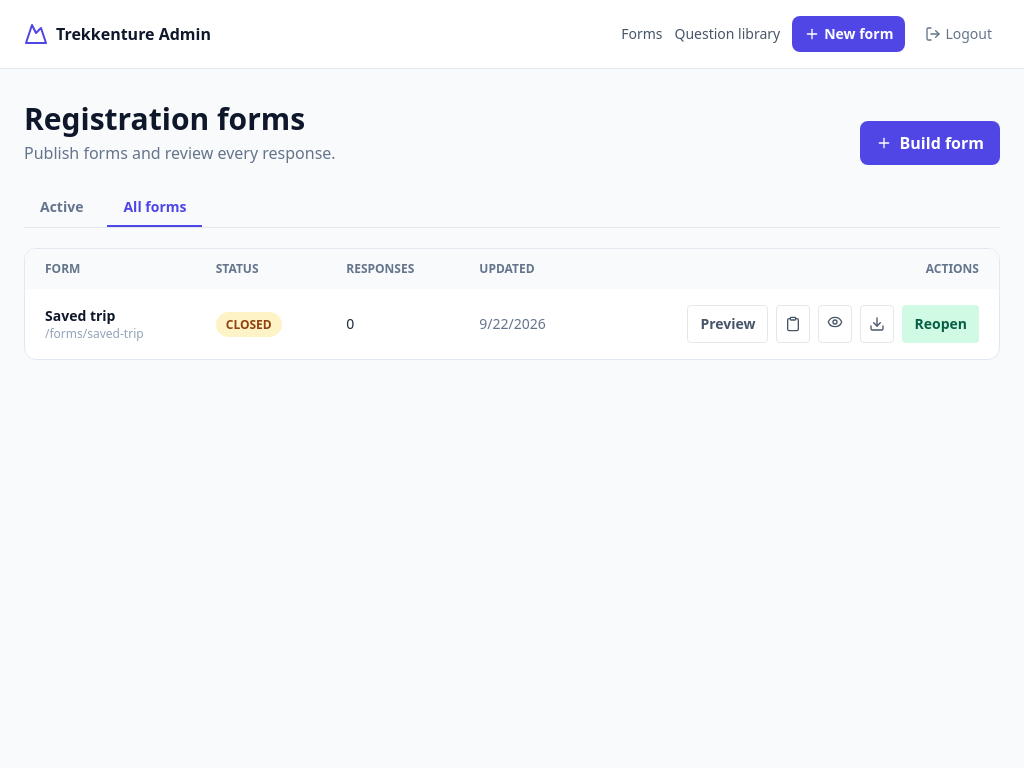
application integration › previews saved CLOSED snapshots from the dashboard without enabling submissions
The image size is (1024, 768).
Click the link "Preview". click: click(728, 324)
box: [687,305,768,343]
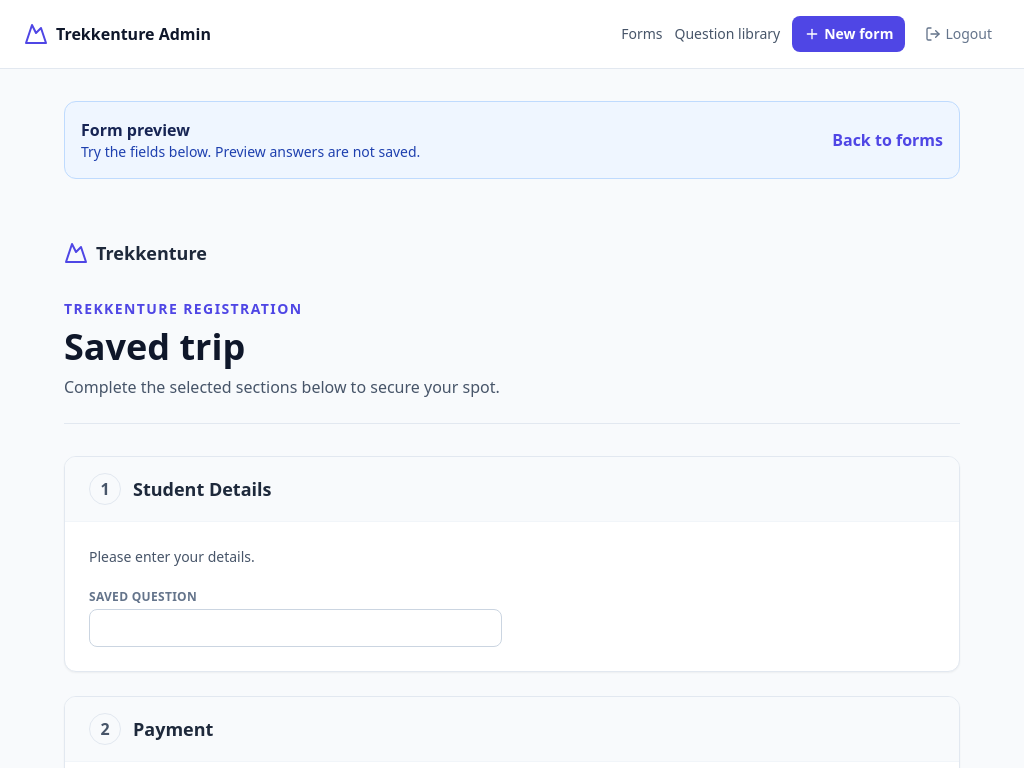
Type "Preview answer" into the field labelled "Saved question". click: (296, 628)
box: [89,609,502,647]
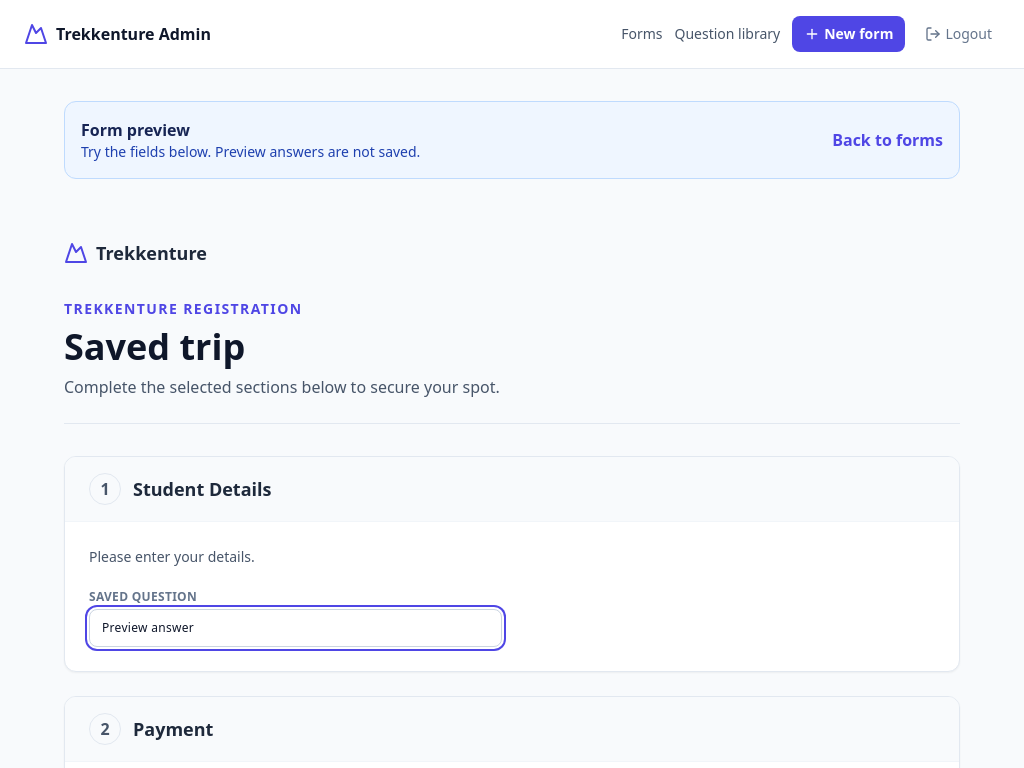
Click the link "Back to forms". click: click(888, 140)
box: [832,128,943,152]
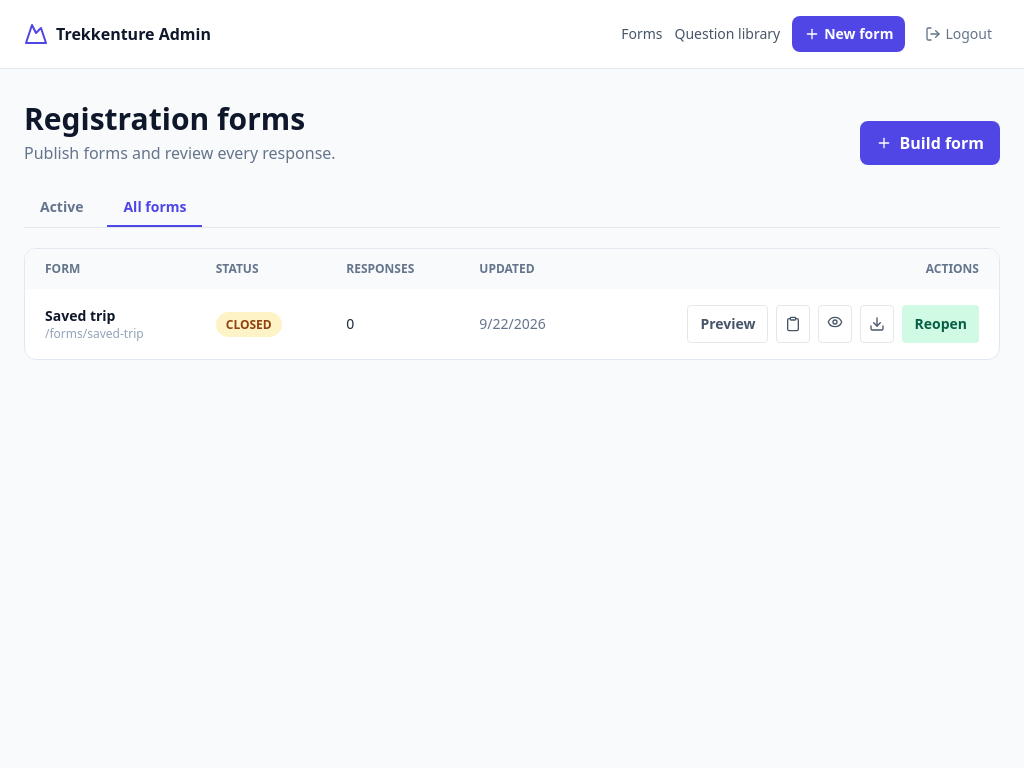
Result: the text "CLOSED" is shown at [216,312,282,337]
